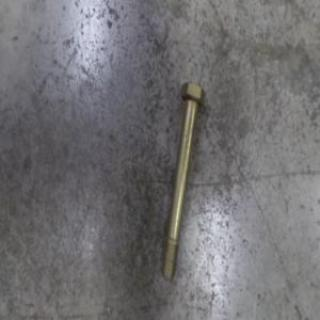Bolttrack_idkeyframe: (159, 79, 205, 282)
